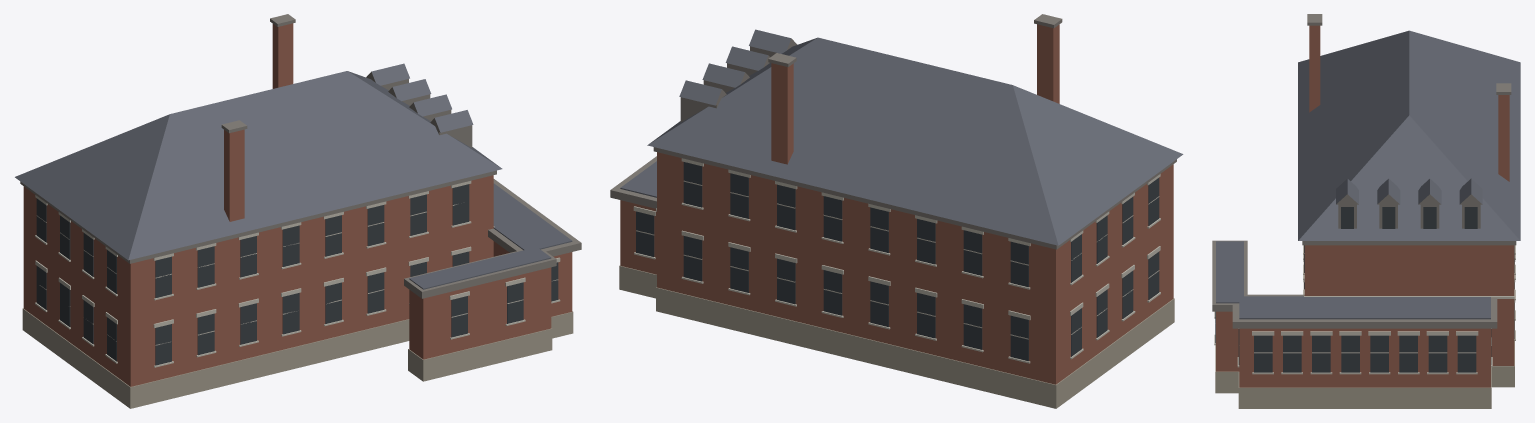
Rendered from house_2114_calumet__draft_1904.glb.
3 views of the same model, side by side, from view 1: azimuth 30°, elevation 25°; view 2: azimuth 150°, elevation 25°; view 3: azimuth 270°, elevation 25° (orthographic). The views are drawn at different scales.
Parts seen in each view (by area): view 1: house_2114_calumet__draft_1904; view 2: house_2114_calumet__draft_1904; view 3: house_2114_calumet__draft_1904.
Boxes of the visible parts, <box> form: house_2114_calumet__draft_1904: <box>15,14,581,408</box>; house_2114_calumet__draft_1904: <box>610,14,1183,408</box>; house_2114_calumet__draft_1904: <box>1212,14,1520,408</box>.
Size of the model in its own units: 25.45 by 14.65 by 16.55.
